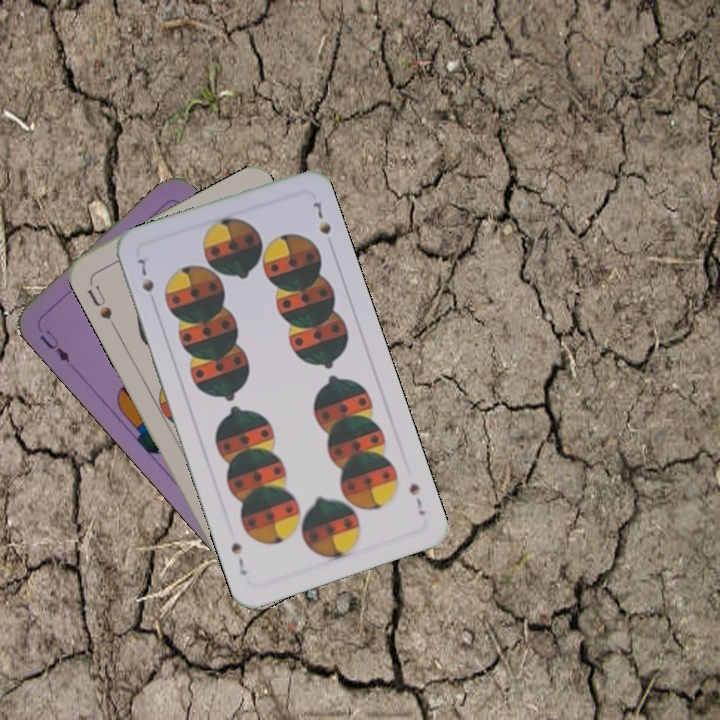EU: (35, 325, 73, 366)
S7: (134, 252, 157, 295), (405, 478, 429, 518)
SU: (83, 276, 119, 331)
